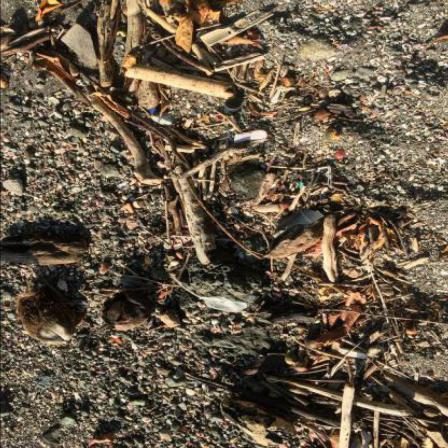Other plastic: (277, 208, 325, 235), (305, 167, 332, 188), (235, 130, 269, 146), (271, 92, 282, 105), (299, 184, 305, 191)
Plastic bag - wrapper: (172, 277, 248, 314)
Unlabeled litter: (224, 100, 241, 116)
